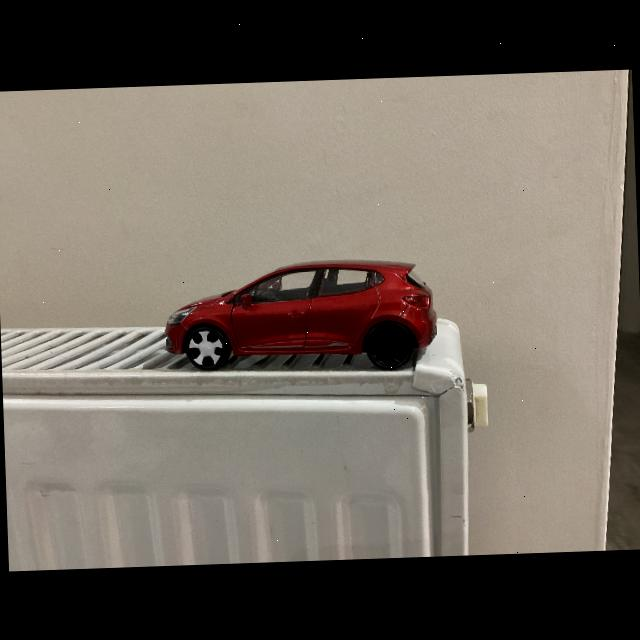Dogru_Jant: (369, 328, 407, 365)
Yanlis_Jant: (187, 329, 223, 366)
